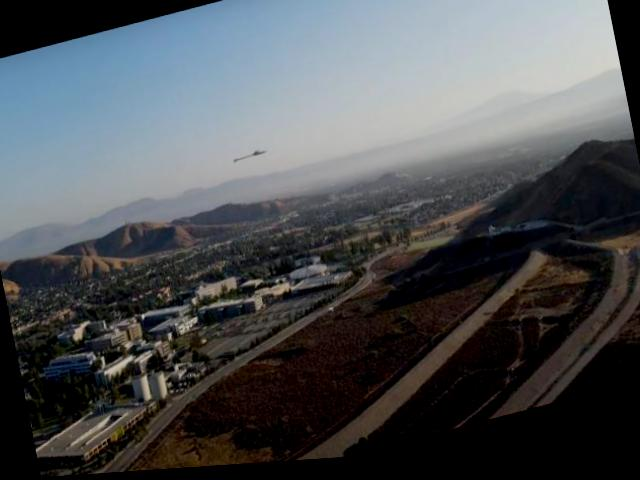iha: (230, 147, 269, 168)
